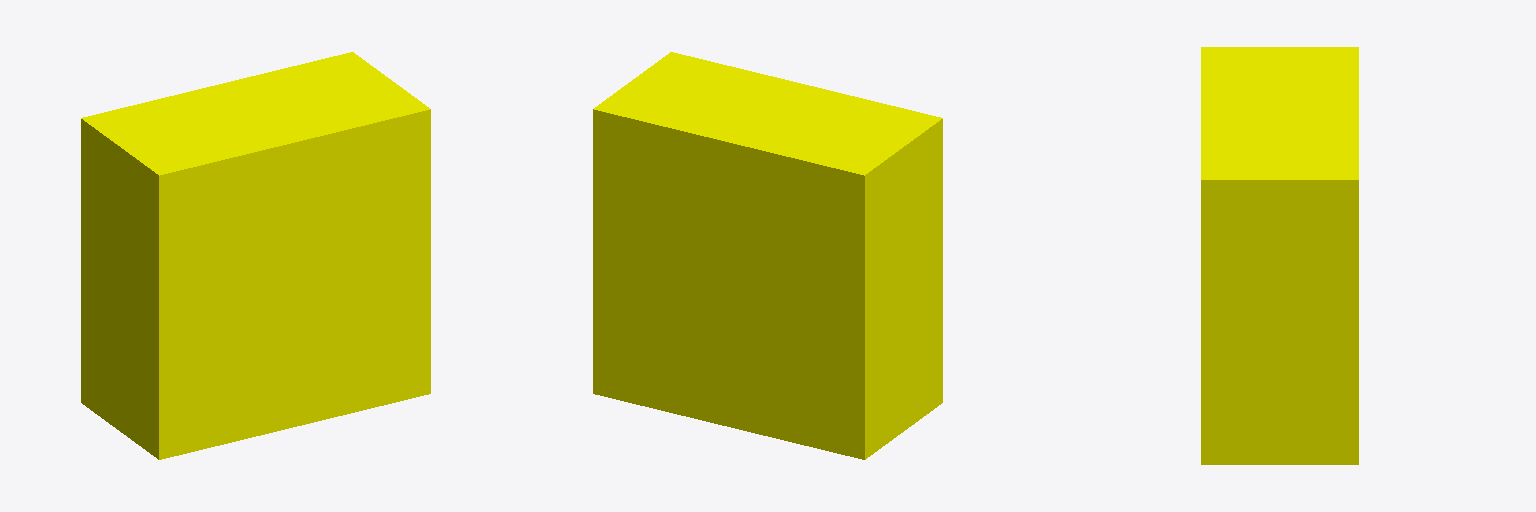
Rendered from yellow_blockpiece.obj.
3 renders of one model, left to right at view 1: azimuth 30°, elevation 25°; view 2: azimuth 150°, elevation 25°; view 3: azimuth 270°, elevation 25°, orthographic.
Parts seen in each view (by area): view 1: pCube1; view 2: pCube1; view 3: pCube1.
Boxes of the visible parts, box(x1,y1,x2,y2) form: pCube1: box(81, 52, 430, 459); pCube1: box(593, 52, 942, 459); pCube1: box(1201, 47, 1358, 464).
Bounding box in the file's own units: 2 × 2 × 1.